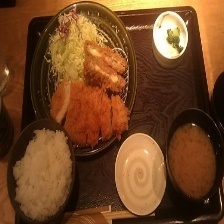rice: (6, 125, 75, 220)
